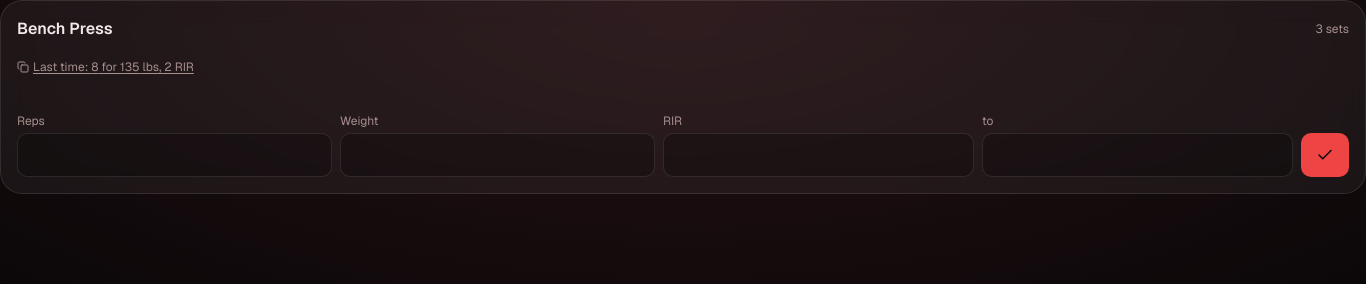
Test case: ExerciseLogCard quick fill › leaves a typed RIR alone while still filling reps and weight
Type "4" into the field labelled "RIR" at [818, 155], box [663,133,974,177]
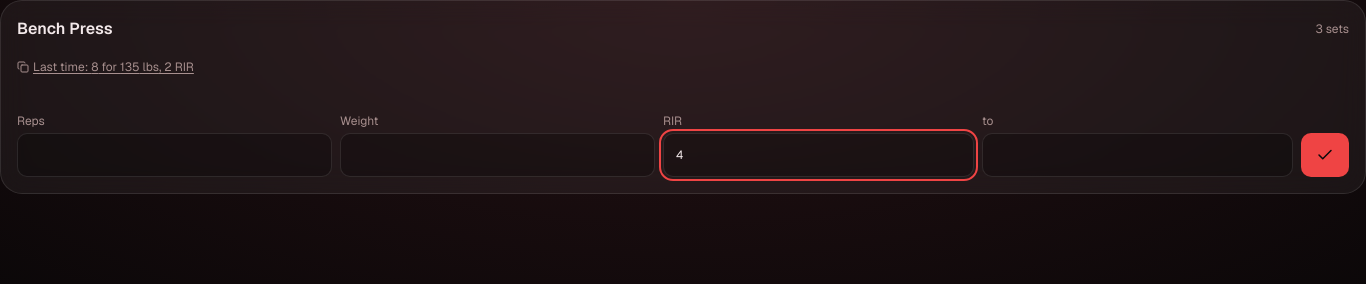
Click the button with aria-label "fill set 1" at [105, 67], box [17,45,194,89]
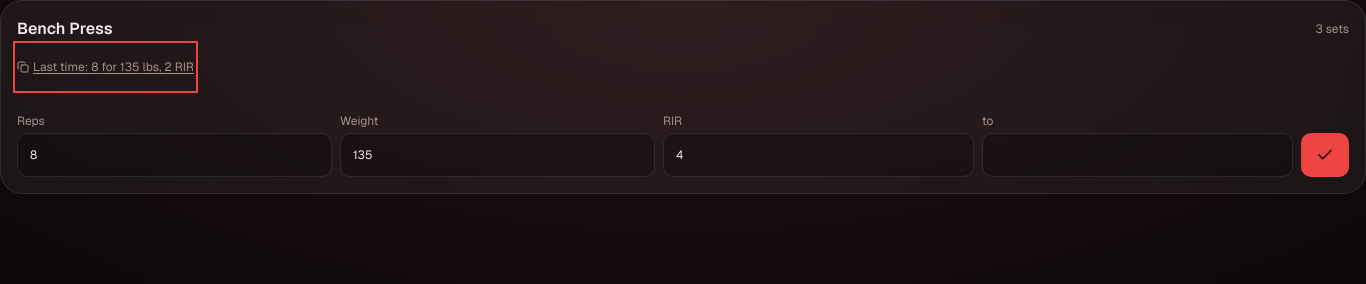
expect the field named "to, highest reps in reserve" is empty: met, box [982,133,1293,177]
expect the field labelled "Reps" holds "8": met, box [17,133,332,177]
expect the field labelled "Weight" holds "135": met, box [340,133,655,177]
